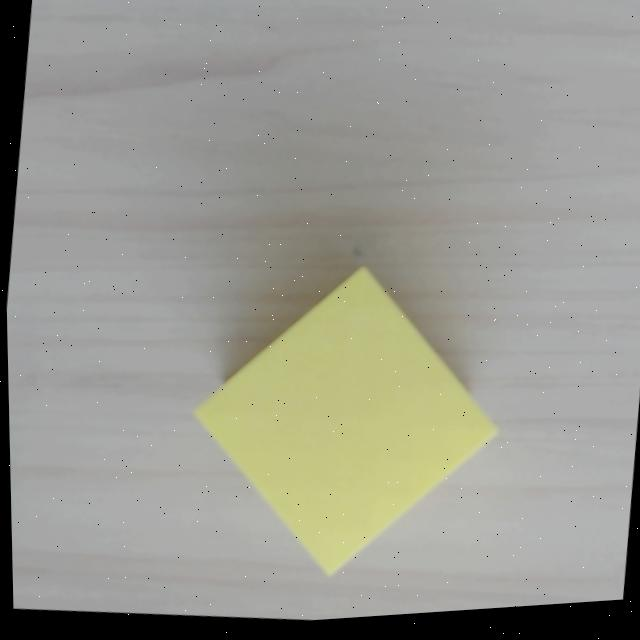Kubus-Kuning-505050: (189, 265, 502, 577)
